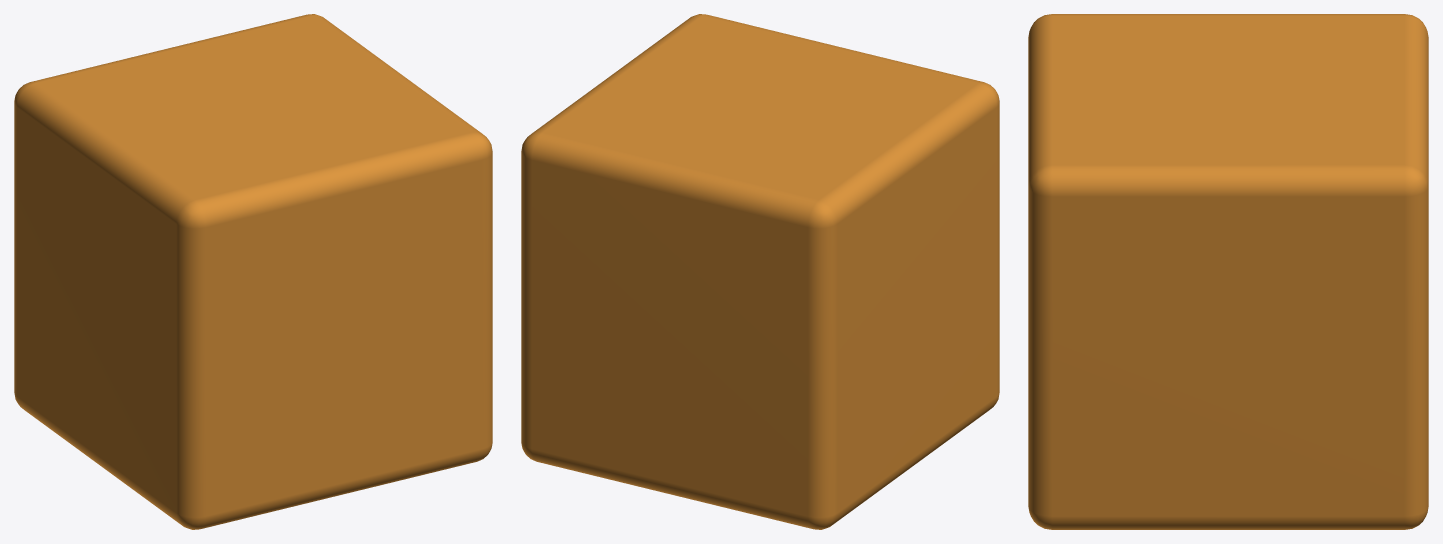
Rendered from SimpleCube.fbx.
3 renders of one model, left to right at view 1: azimuth 30°, elevation 25°; view 2: azimuth 150°, elevation 25°; view 3: azimuth 270°, elevation 25°, orthographic. The views are drawn at different scales.
Parts seen in each view (by area): view 1: SimpleCube; view 2: SimpleCube; view 3: SimpleCube.
Part boxes in pixels (x1,y1,x2,y2): SimpleCube: (14,14,492,529); SimpleCube: (521,14,999,529); SimpleCube: (1028,14,1428,529).
Size of the model in its own units: 100 by 100 by 100.
